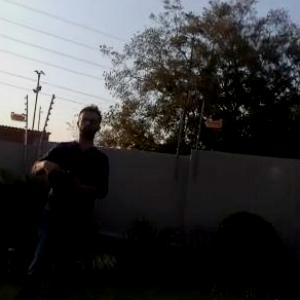follow: (10, 98, 113, 299)
